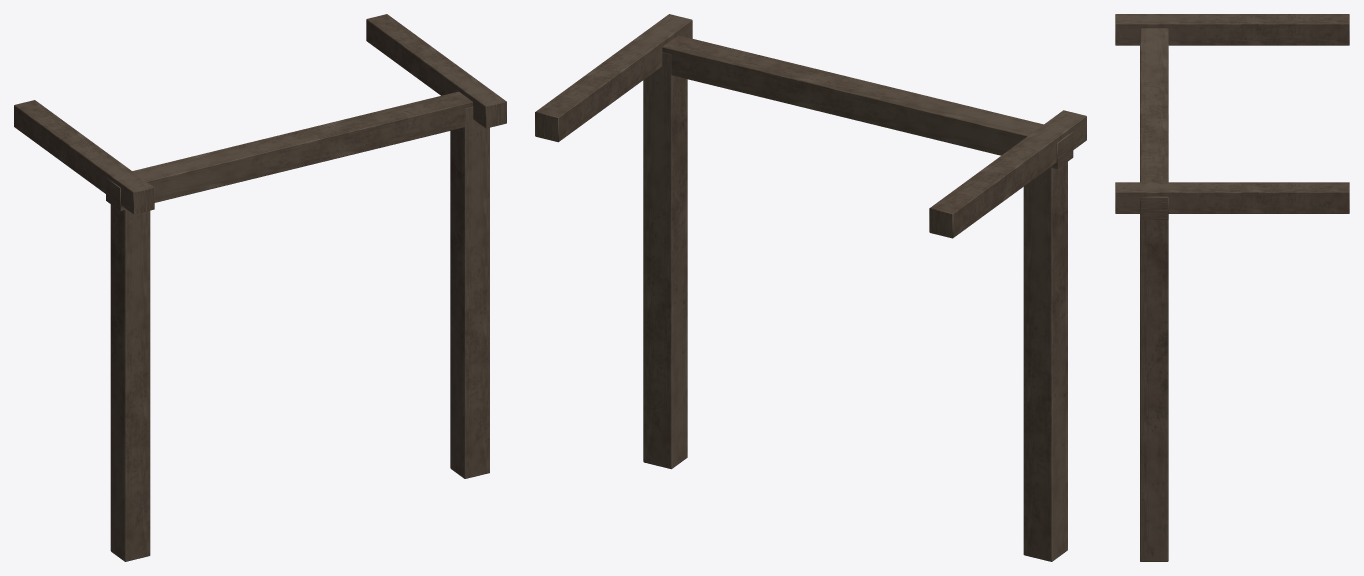
Rendered from BW_Inn01_PorchTimber.fbx.
3 renders of one model, left to right at view 1: azimuth 30°, elevation 25°; view 2: azimuth 150°, elevation 25°; view 3: azimuth 270°, elevation 25°, orthographic. The views are drawn at different scales.
Visible parts, largest first — view 1: BW_Inn01_PorchTimber; view 2: BW_Inn01_PorchTimber; view 3: BW_Inn01_PorchTimber.
Part boxes in pixels (bbox=[...]): BW_Inn01_PorchTimber: bbox=[14, 14, 506, 561]; BW_Inn01_PorchTimber: bbox=[535, 14, 1086, 561]; BW_Inn01_PorchTimber: bbox=[1115, 14, 1349, 561].
Bounding box in the file's own units: 2.98 × 2.89 × 1.65.
